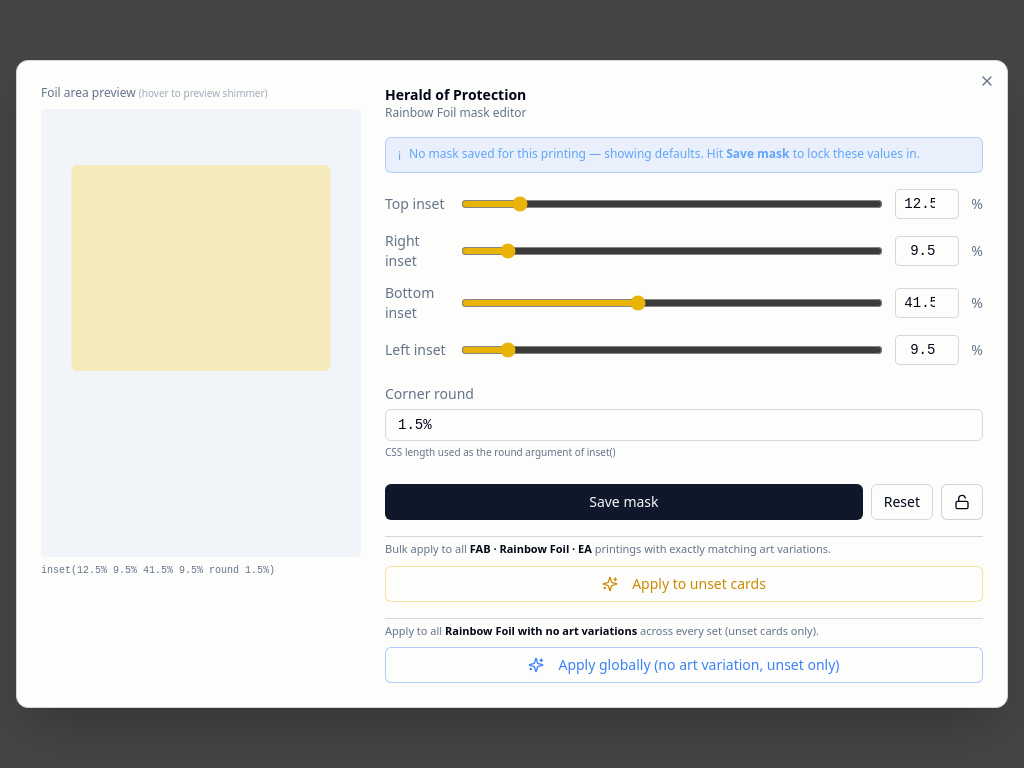
Test: FoilMaskEditor — single card › dry-runs a broad apply and waits for confirmation before writing anything
Click the button "Apply to unset cards" at (684, 584), box [385,566,983,602]
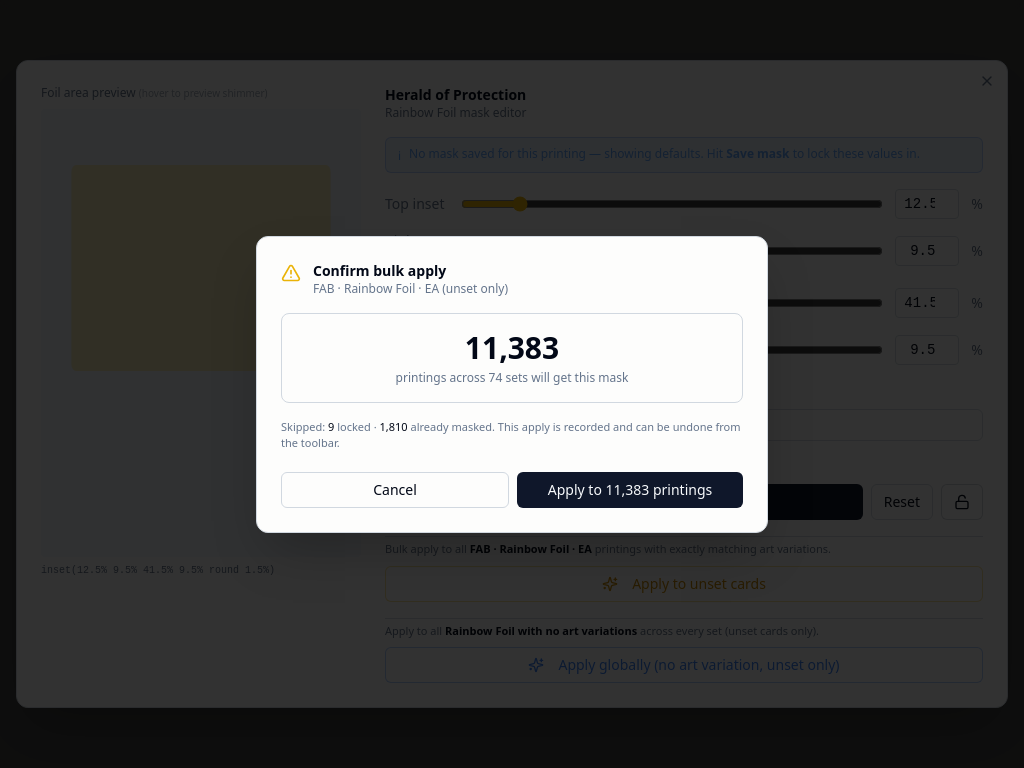
Check: the button "Apply to 11,383 printings" is shown, box [517,472,743,508]
